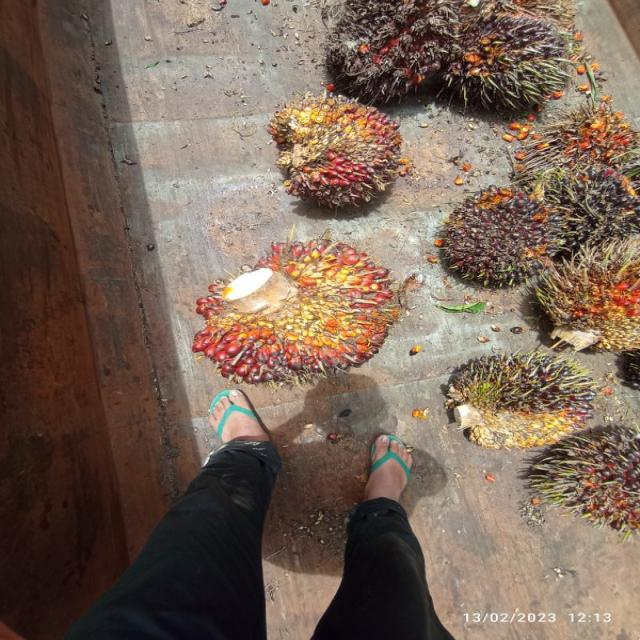fraksi 00: (428, 330, 596, 462), (420, 183, 559, 299), (534, 404, 640, 526), (548, 166, 640, 259)
fraksi 1: (261, 68, 411, 205)
fraksi 3: (176, 221, 446, 416)
fraksi 4: (530, 213, 640, 357), (534, 90, 640, 182)
